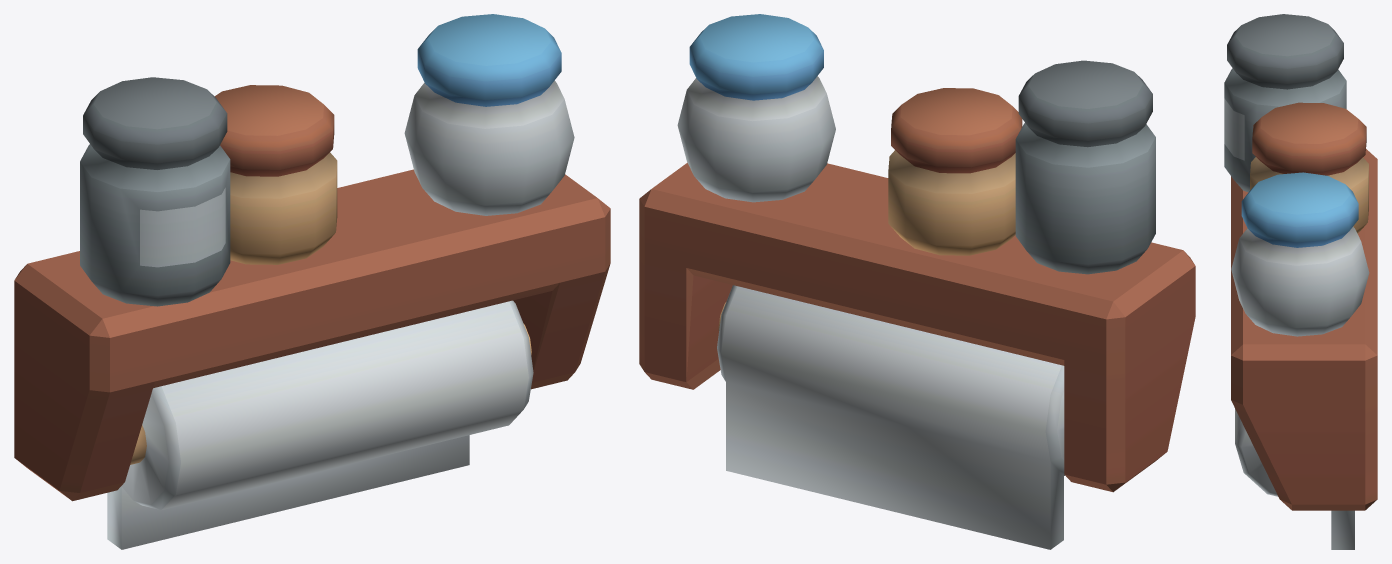
The model's file is shelf_papaertowel.glb.
The picture shows the model from 3 angles, left to right: view 1: azimuth 30°, elevation 25°; view 2: azimuth 150°, elevation 25°; view 3: azimuth 270°, elevation 25°; orthographic projection. The views are drawn at different scales.
Parts seen in each view (by area): view 1: shelf_papertowel_decorated; view 2: shelf_papertowel_decorated; view 3: shelf_papertowel_decorated.
Boxes of the visible parts, left/top/right/bottom form: shelf_papertowel_decorated: left=14, top=14, right=610, bottom=549; shelf_papertowel_decorated: left=639, top=14, right=1195, bottom=549; shelf_papertowel_decorated: left=1224, top=14, right=1377, bottom=549.
Bounding box in the file's own units: 2 × 1.71 × 0.6264.
Materials: 1 (1 with a texture image).
